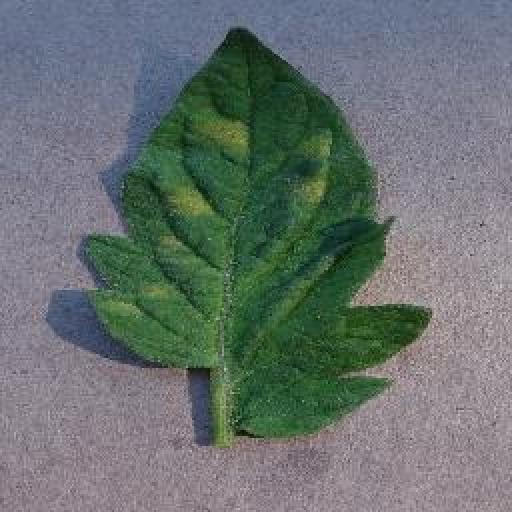disease_tomato: (82, 24, 435, 439)
